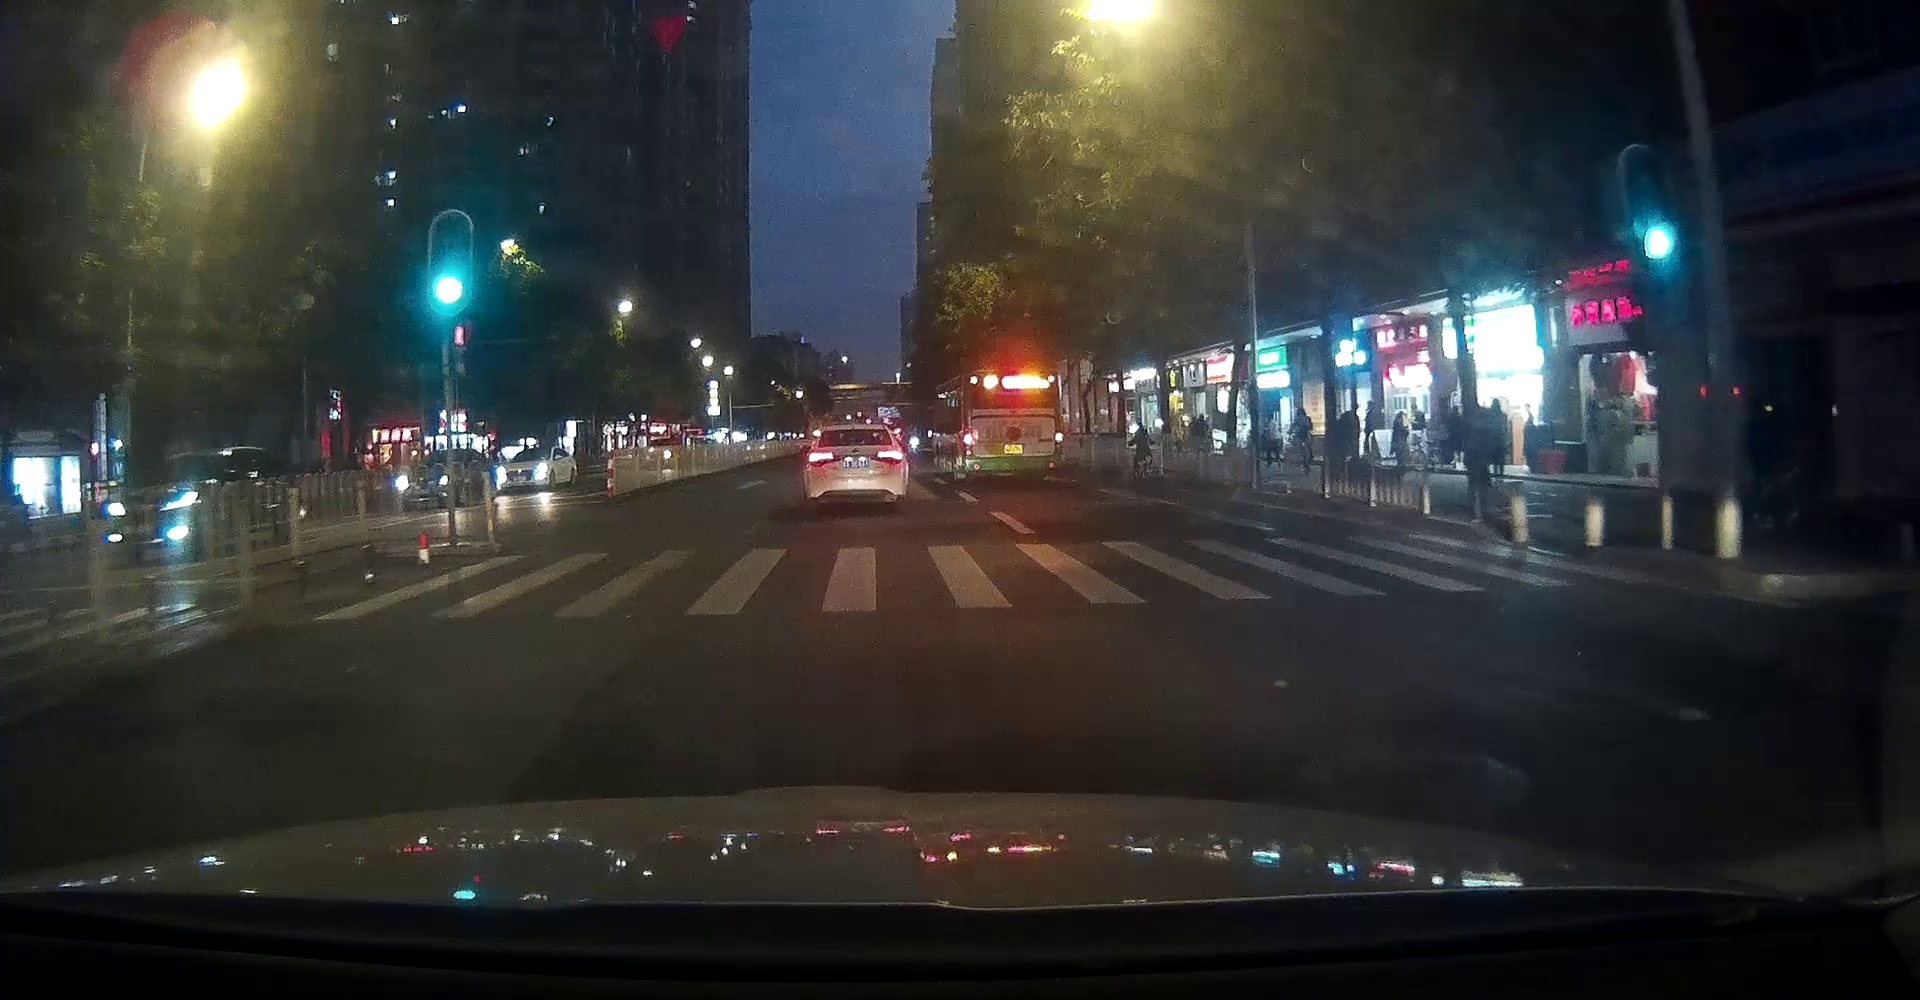L_light: (808, 451, 841, 467), (963, 426, 973, 452)
R_light: (871, 451, 905, 464), (1054, 426, 1064, 452)
T_light: (1008, 371, 1027, 374), (847, 442, 863, 445)
night-no: (963, 369, 1065, 484), (808, 424, 909, 513)
